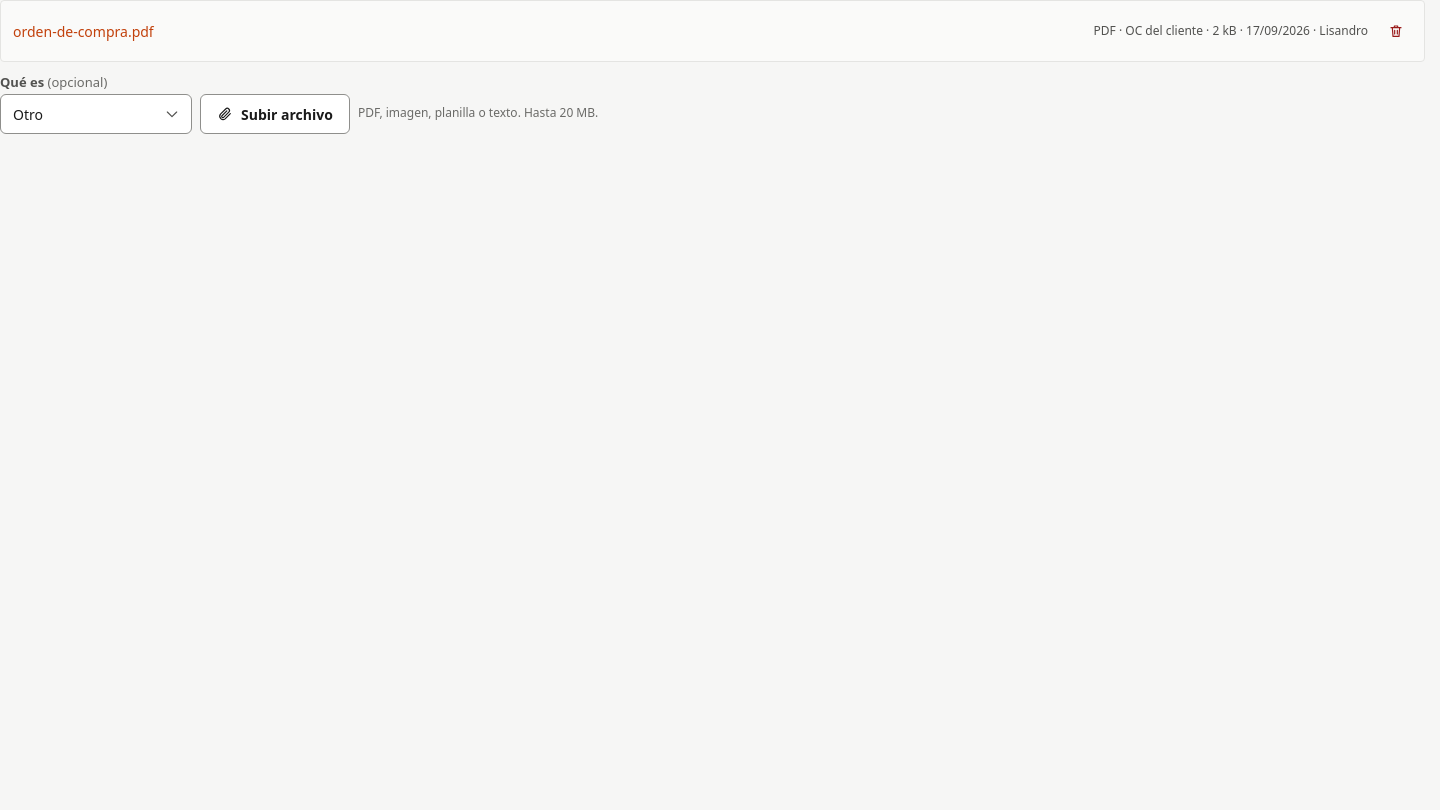
Adjuntos · borrar › pregunta antes de borrar, y cancelar no borra
Click the button named "Eliminar orden-de-compra.pdf" at (1396, 31), box [1380,15,1412,47]
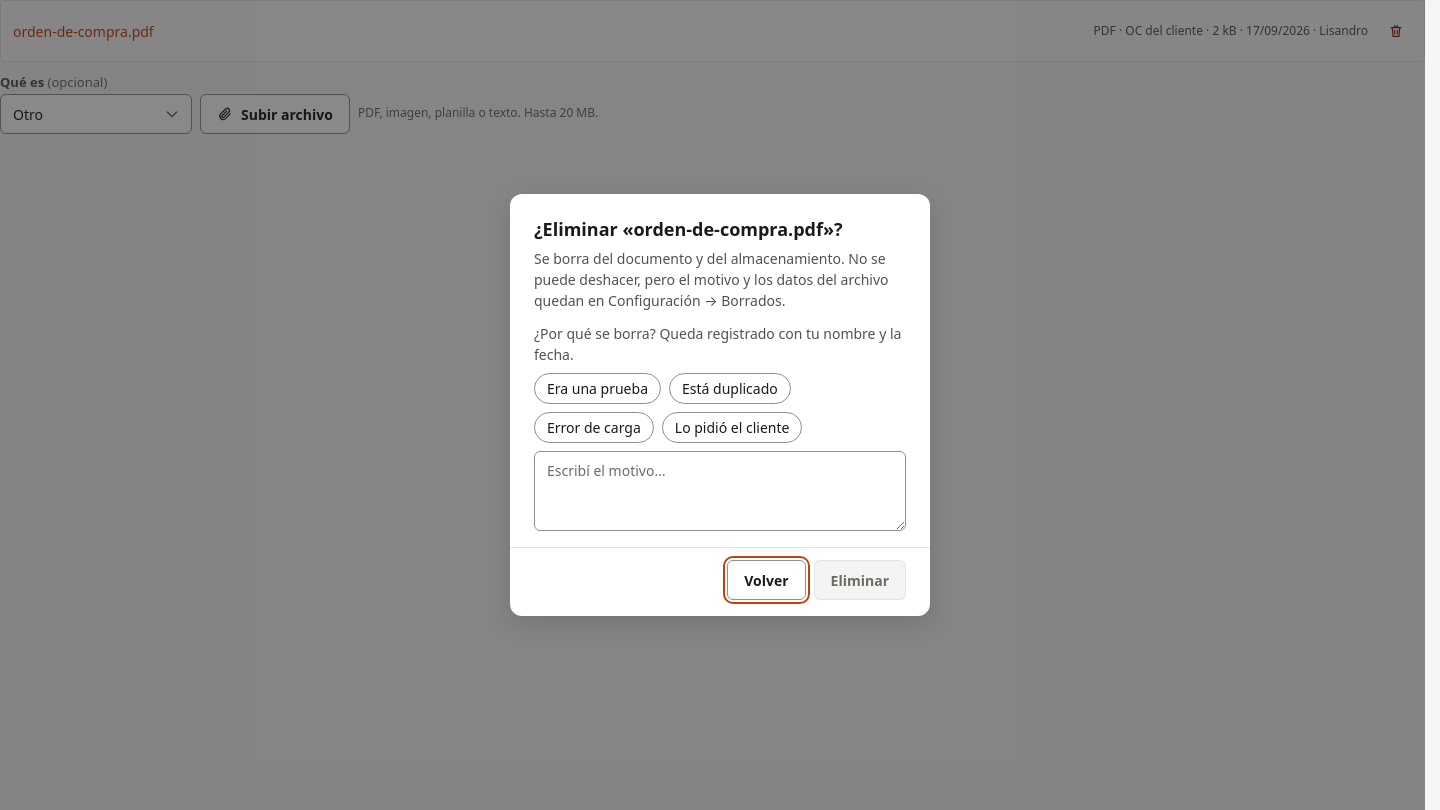
Click the button "Volver" at (766, 580), box [727,560,806,600]
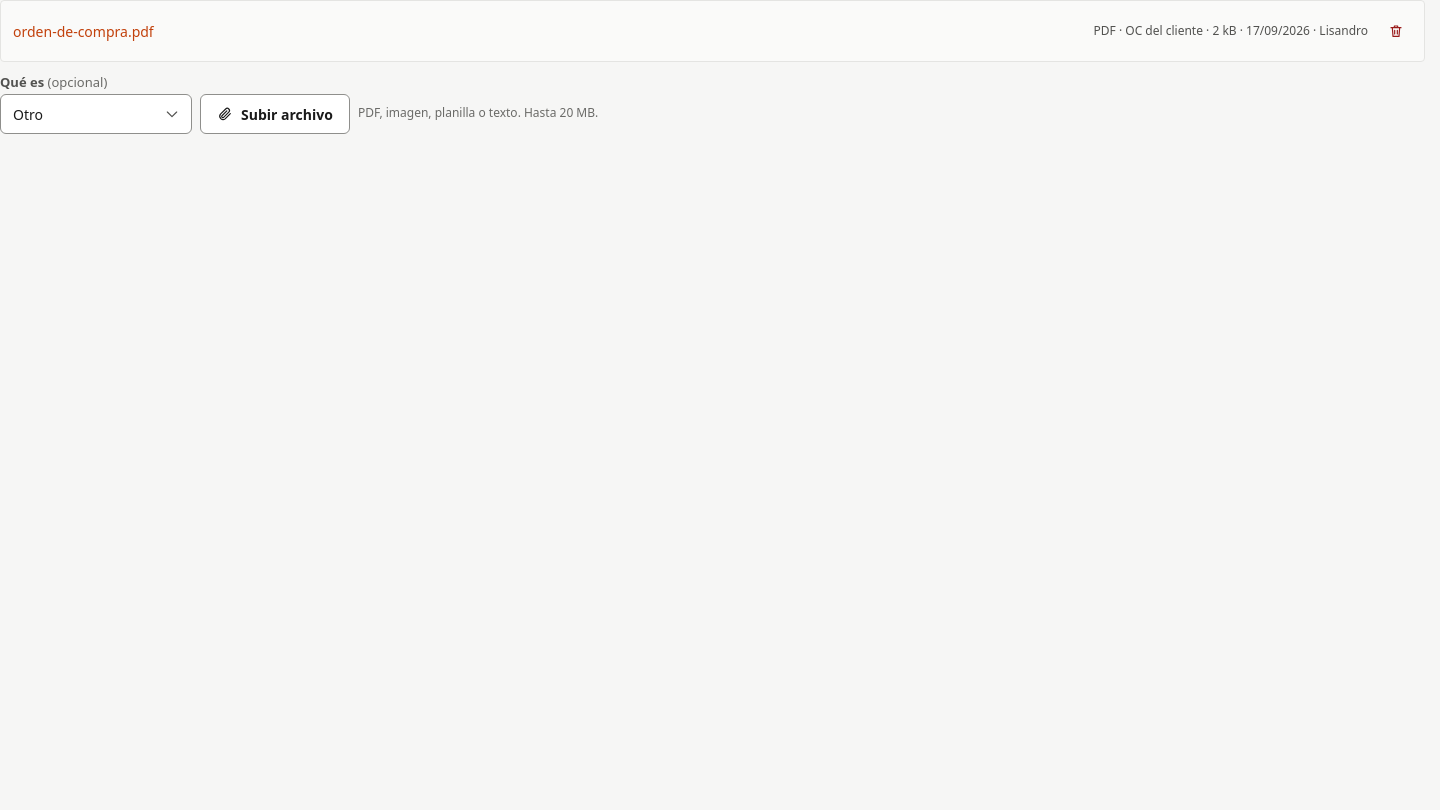
Result: the dialog is gone
